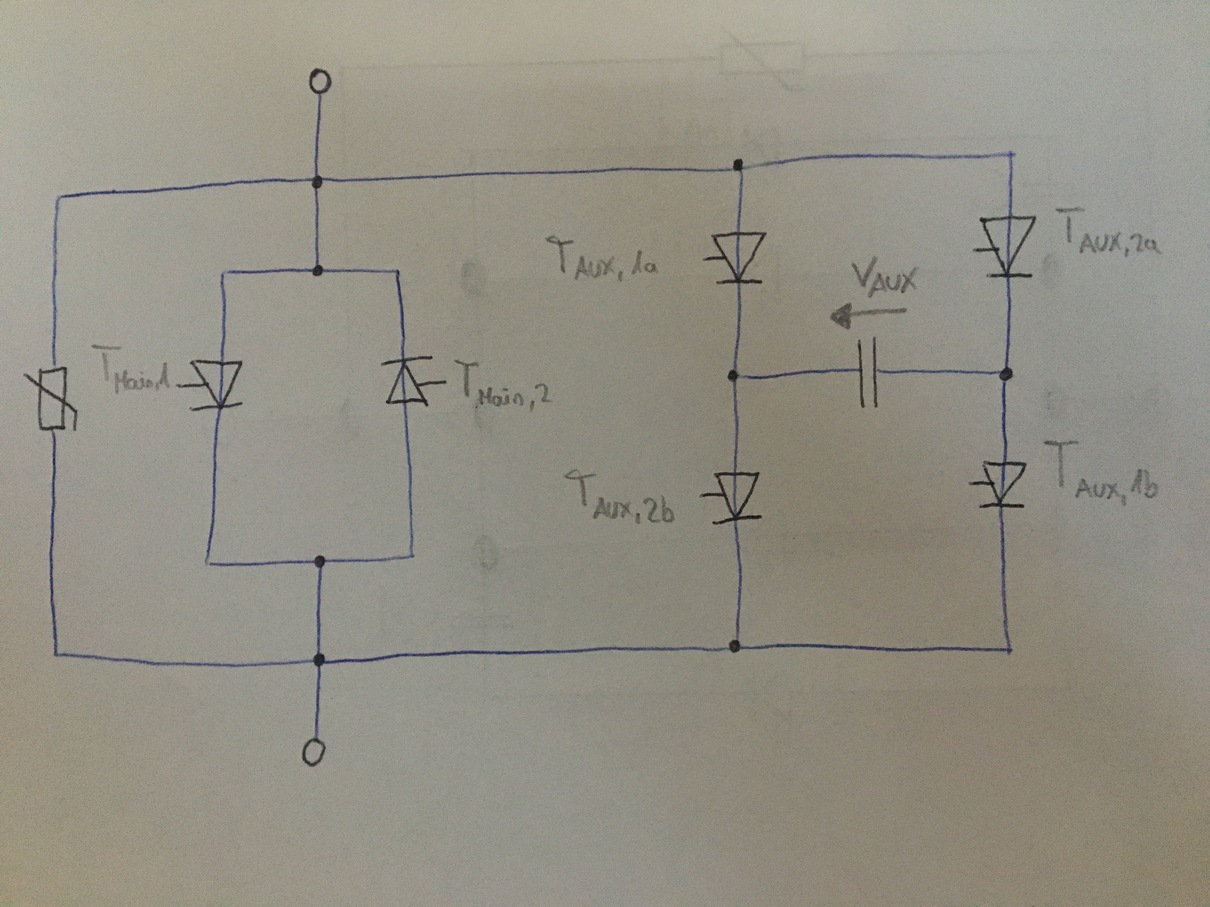capacitor.unpolarized: (853, 335, 885, 411)
junction: (996, 363, 1017, 385), (725, 366, 747, 386), (308, 172, 328, 191), (726, 637, 746, 656), (51, 191, 71, 209), (310, 650, 328, 670), (309, 261, 327, 280), (312, 552, 329, 571), (731, 156, 748, 175), (200, 551, 216, 570), (49, 646, 65, 663), (1001, 641, 1017, 658), (1003, 147, 1019, 163), (217, 266, 233, 281), (390, 265, 406, 280), (404, 547, 419, 563)
terminal: (300, 734, 327, 769), (307, 64, 334, 98)
text: (1038, 435, 1163, 510), (561, 467, 680, 528), (541, 231, 661, 288), (1052, 203, 1163, 263), (450, 355, 555, 415), (89, 340, 172, 397), (848, 253, 922, 301)
thyristor: (977, 213, 1040, 280), (187, 357, 246, 414), (709, 230, 768, 286), (378, 354, 435, 408), (711, 470, 765, 527), (978, 459, 1029, 511)
varistor: (21, 361, 83, 436)
